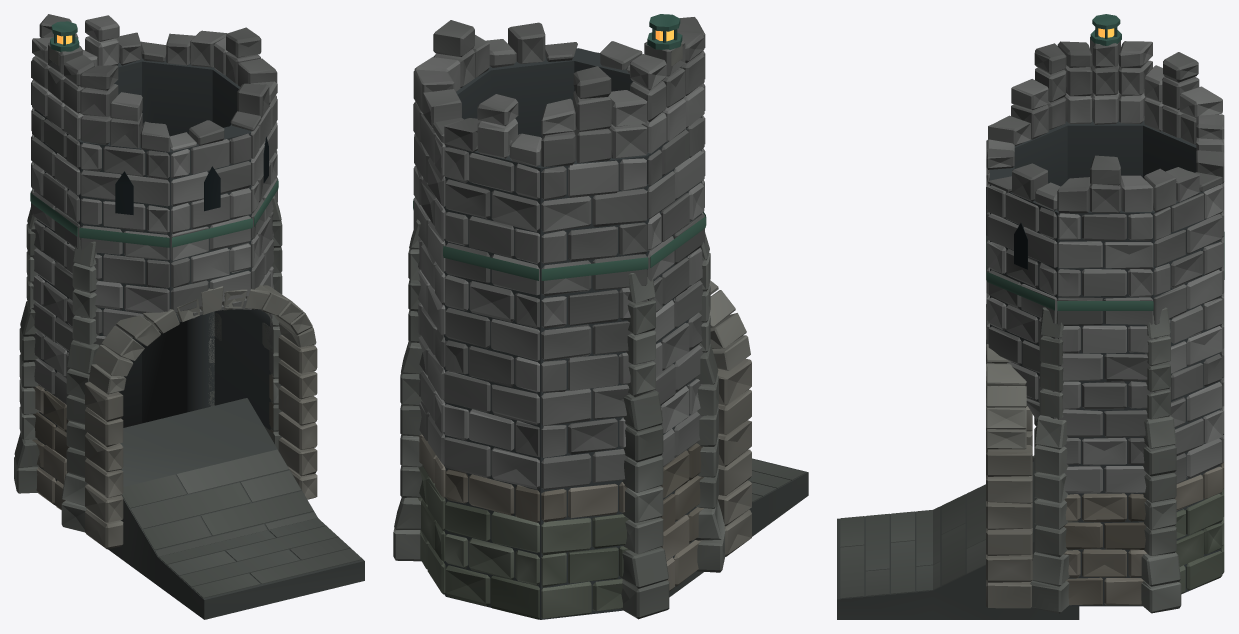
The model's file is cairnwatch.glb.
The picture shows the model from 3 angles, left to right: view 1: azimuth 30°, elevation 25°; view 2: azimuth 150°, elevation 25°; view 3: azimuth 270°, elevation 25°; orthographic projection. The views are drawn at different scales.
Visible parts, largest first — view 1: towerSkinCairnAshlar, towerSkinCairnThreshold, towerSkinCairnCore, towerSkinCairnBronze; view 2: towerSkinCairnAshlar, towerSkinCairnCore, towerSkinCairnBronze, towerSkinCairnThreshold; view 3: towerSkinCairnAshlar, towerSkinCairnThreshold, towerSkinCairnCore, towerSkinCairnBronze.
Part boxes in pixels (x1,y1,x2,y2): towerSkinCairnAshlar: (14,14,317,549); towerSkinCairnThreshold: (108,398,364,619); towerSkinCairnCore: (34,56,270,504); towerSkinCairnBronze: (30,21,278,247); towerSkinCairnAshlar: (393,17,751,619); towerSkinCairnCore: (443,48,701,619); towerSkinCairnBronze: (413,14,706,280); towerSkinCairnThreshold: (669,458,808,597); towerSkinCairnAshlar: (986,37,1224,613); towerSkinCairnThreshold: (837,461,1079,619); towerSkinCairnCore: (990,119,1220,606); towerSkinCairnBronze: (986,14,1224,310).
Bounding box in the file's own units: 6.28 × 13.03 × 8.9.
